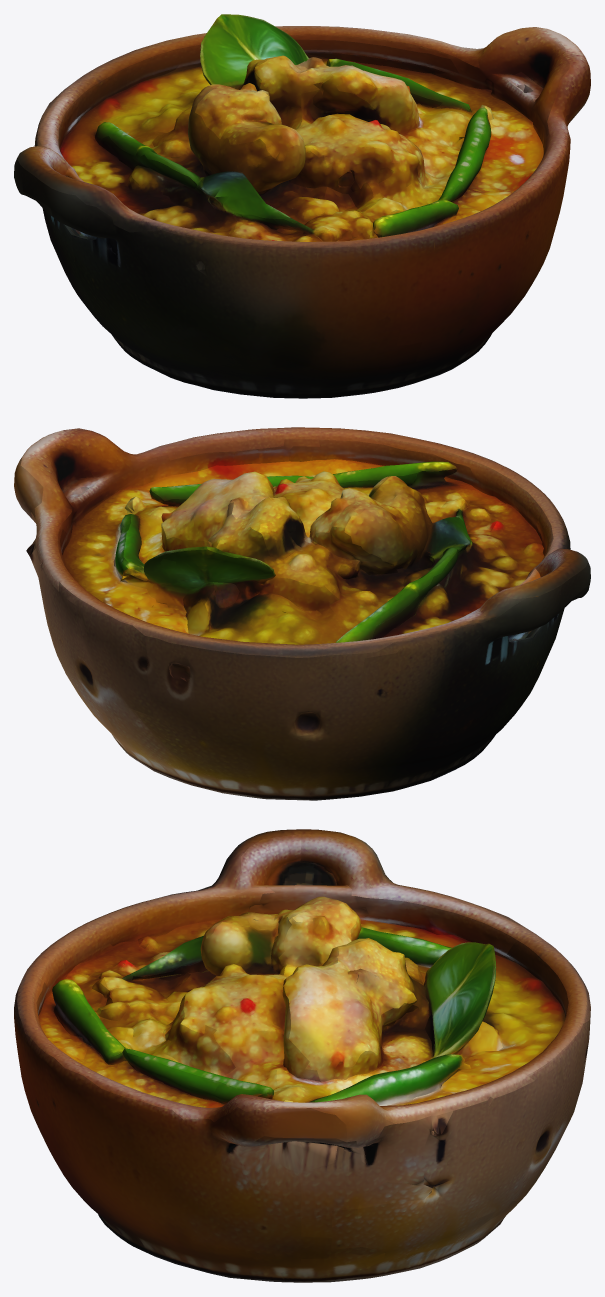
Rendered from glotak.glb.
3 renders of one model, top to bottom at view 1: azimuth 30°, elevation 25°; view 2: azimuth 150°, elevation 25°; view 3: azimuth 270°, elevation 25°, orthographic. The views are drawn at different scales.
Parts seen in each view (by area): view 1: world.003; view 2: world.003; view 3: world.003.
Part boxes in pixels (box(x1,y1,x2,y2)): world.003: box(14, 14, 590, 398); world.003: box(14, 427, 590, 800); world.003: box(14, 829, 590, 1282).
Size of the model in its own units: 1 by 0.4258 by 0.8648.
1 material, 1 textured.
